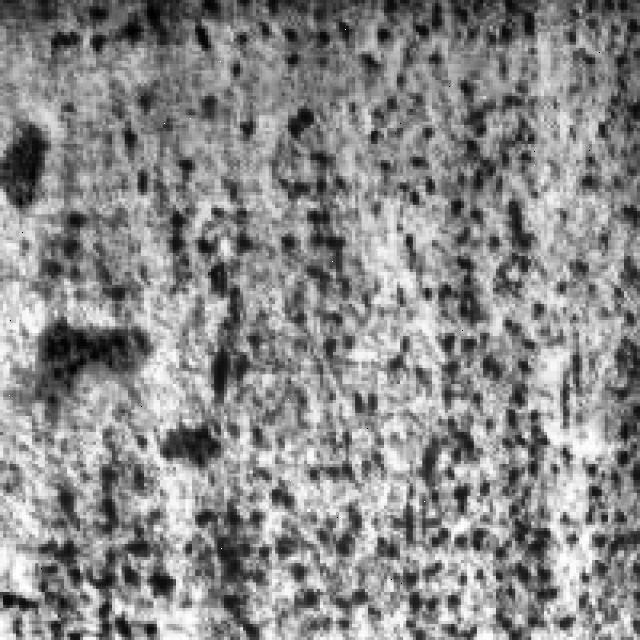Rolled_in_Scale: (61, 0, 640, 627), (6, 115, 205, 634)
